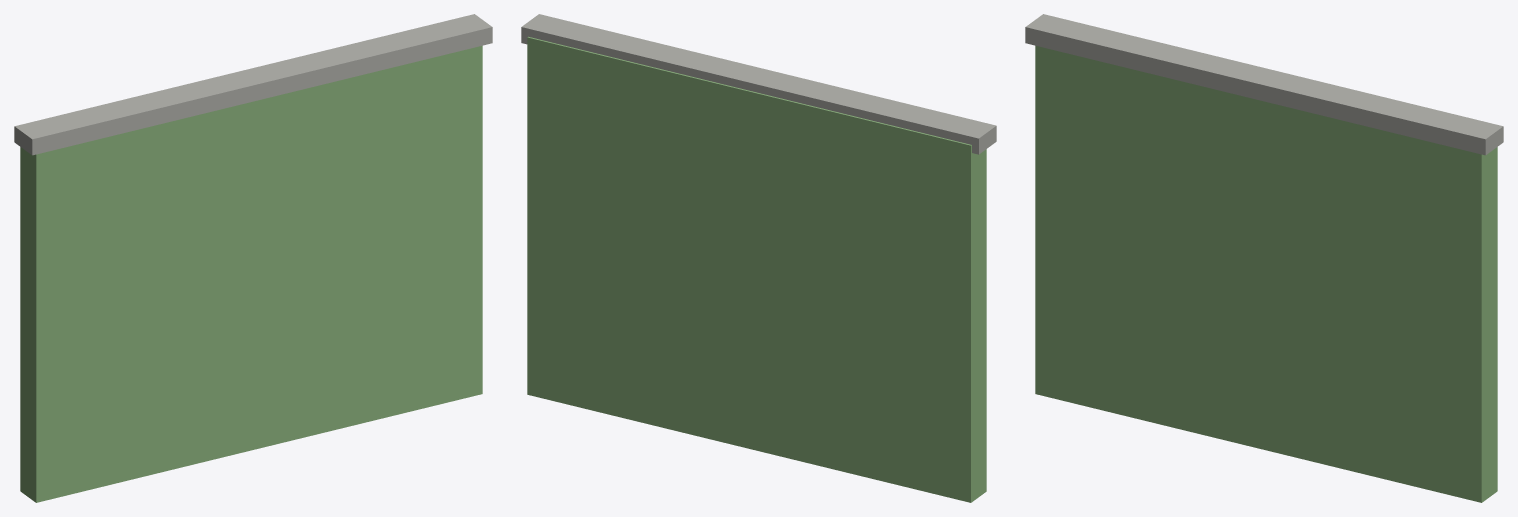
The model's file is 30_NenDat.glb.
3 renders of one model, left to right at view 1: azimuth 30°, elevation 25°; view 2: azimuth 150°, elevation 25°; view 3: azimuth 330°, elevation 25°, orthographic.
Visible parts, largest first — view 1: base, edge; view 2: base, edge; view 3: base, edge.
Boxes of the visible parts, left/top/right/bottom form: base: left=20, top=45, right=482, bottom=502; edge: left=14, top=14, right=492, bottom=155; base: left=527, top=36, right=986, bottom=502; edge: left=521, top=14, right=996, bottom=154; base: left=1035, top=45, right=1497, bottom=502; edge: left=1025, top=14, right=1503, bottom=155.
Bounding box in the file's own units: 2.68 × 2.04 × 0.19.
